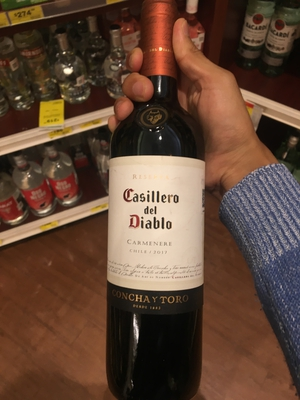casillero del diablo carmenere: (96, 19, 214, 400)
